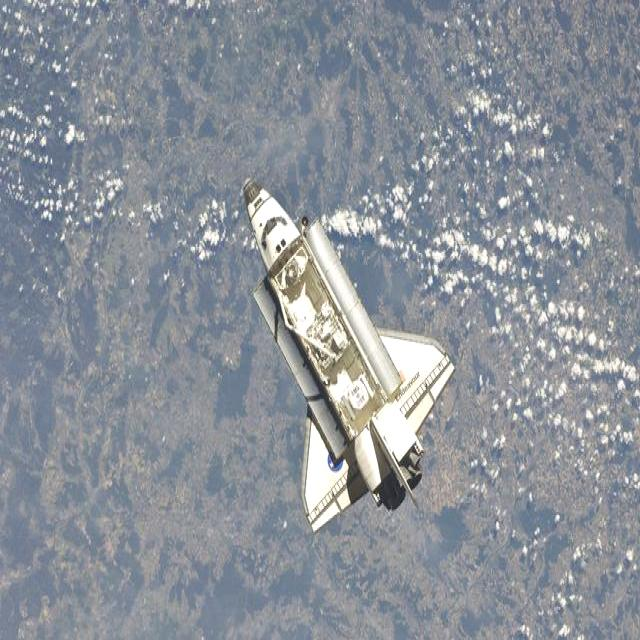medium_debris: (244, 179, 454, 531)
